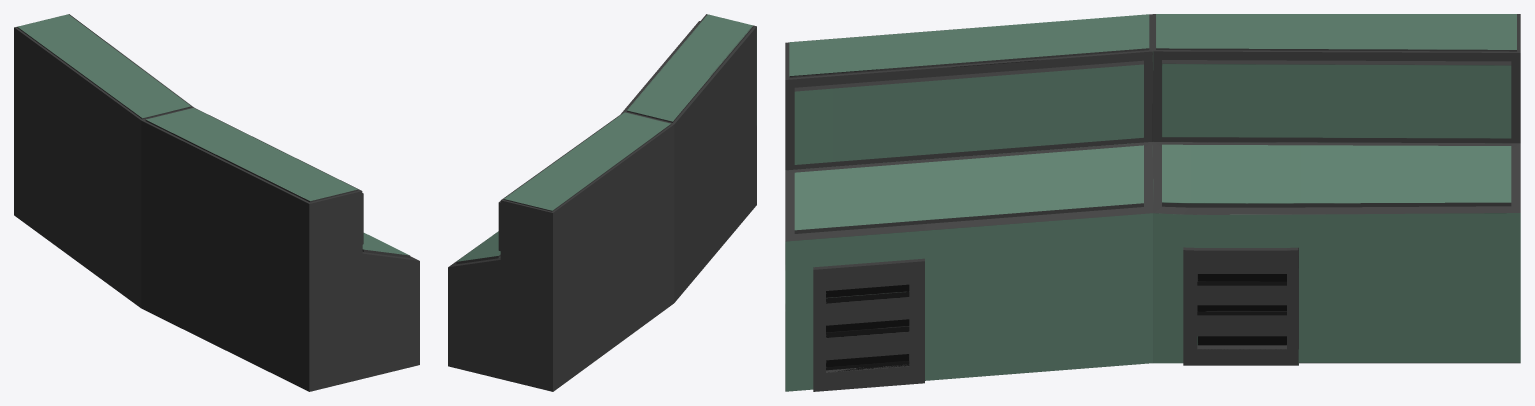
File: middle_console_04_new_rivets.glb
3 views of the same model, side by side, from view 1: azimuth 30°, elevation 25°; view 2: azimuth 150°, elevation 25°; view 3: azimuth 270°, elevation 25° (orthographic). The views are drawn at different scales.
Visible parts, largest first — view 1: middle_console; view 2: middle_console; view 3: middle_console.
Boxes of the visible parts, left/top/right/bottom form: middle_console: left=14, top=14, right=419, bottom=391; middle_console: left=448, top=14, right=756, bottom=391; middle_console: left=785, top=14, right=1520, bottom=391.
Bounding box in the file's own units: 1.51 × 1.8 × 4.4.
Materials: 1 (1 with a texture image).
